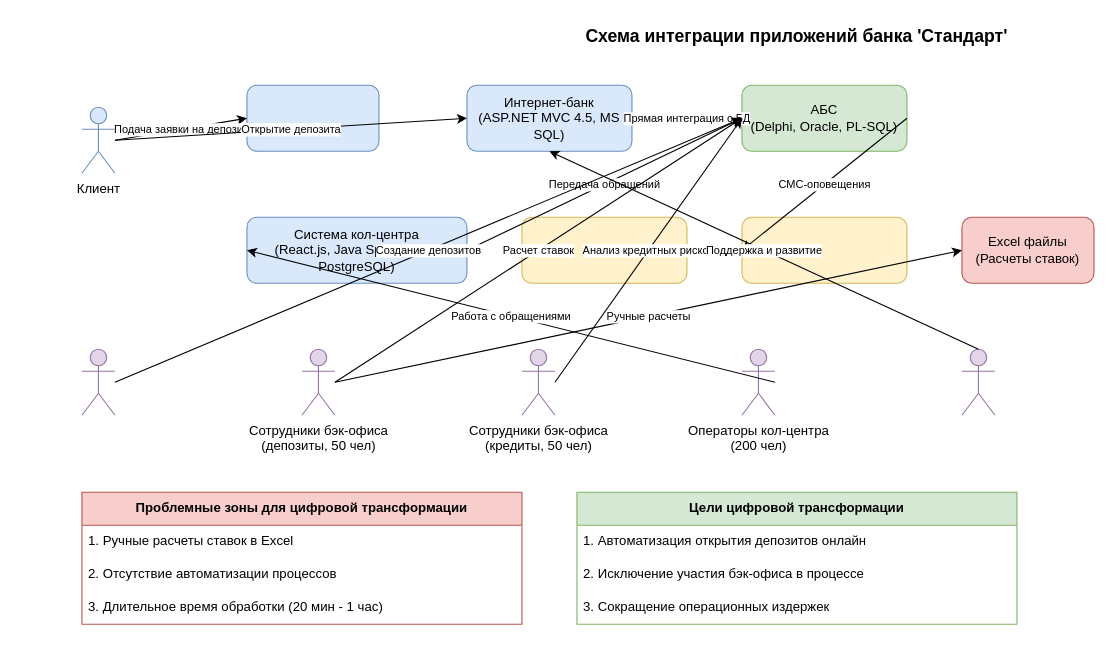
The diagram is 1113 pixels wide and 646 high, and some of its shapes have lost their labels. The shapes that lost their labels are listed below. From the top down, each one's centre as x and y in pixels, then its label:
(x=312, y=117): Сайт (PHP, React.js)
(x=604, y=249): Партнёрский кол-центр (Внешняя система)
(x=824, y=249): СМС-шлюз (Внешний телеком-оператор)
(x=98, y=381): Сотрудники фронт-офиса (500 чел, 50 отделений)
(x=978, y=381): IT команда (40 чел)
